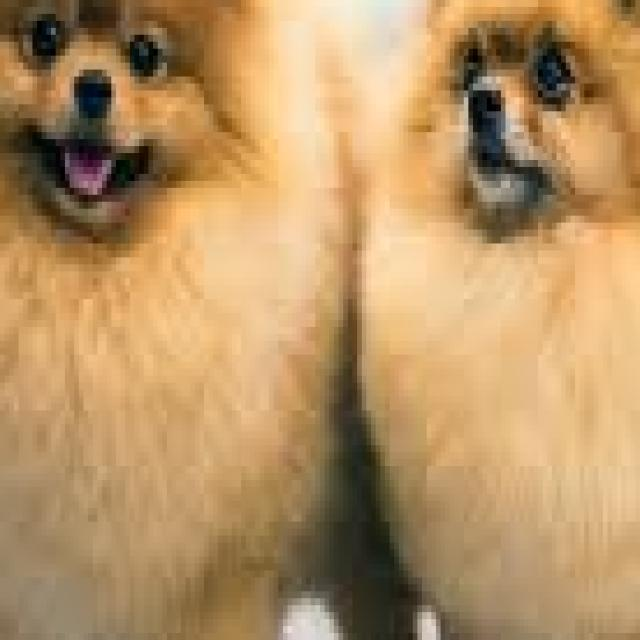dog: (0, 0, 441, 640), (352, 0, 640, 640)
